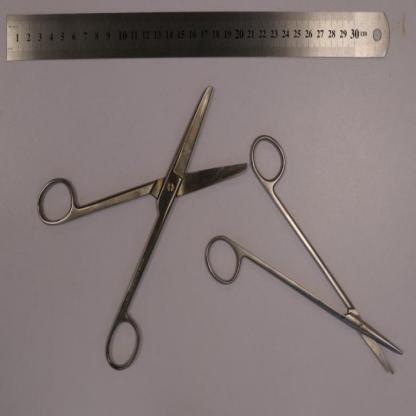7 Metzenbaum Scissors: (204, 130, 404, 374)
Dressing Scissors: (36, 86, 248, 373)
